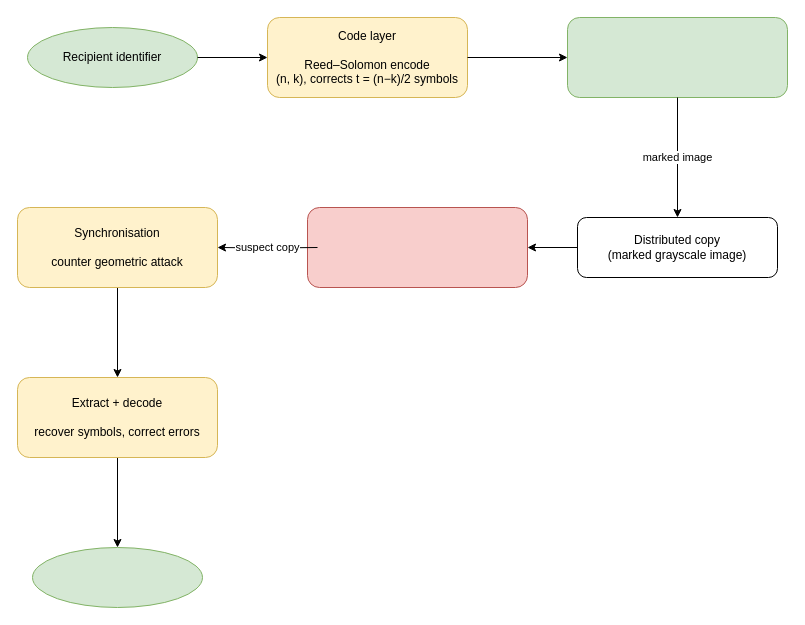
The diagram is 805 pixels wide and 625 high, and some of its shapes have lost their labels. Each missing label, with the centre of its shape:
Attacks -> Leak JPEG, crop, scale, rotation: point (417, 247)
Recovered identifier (traced recipient): point (117, 577)
Watermark substrate transform-domain embedding (spread spectrum / hybrid): point (677, 57)
